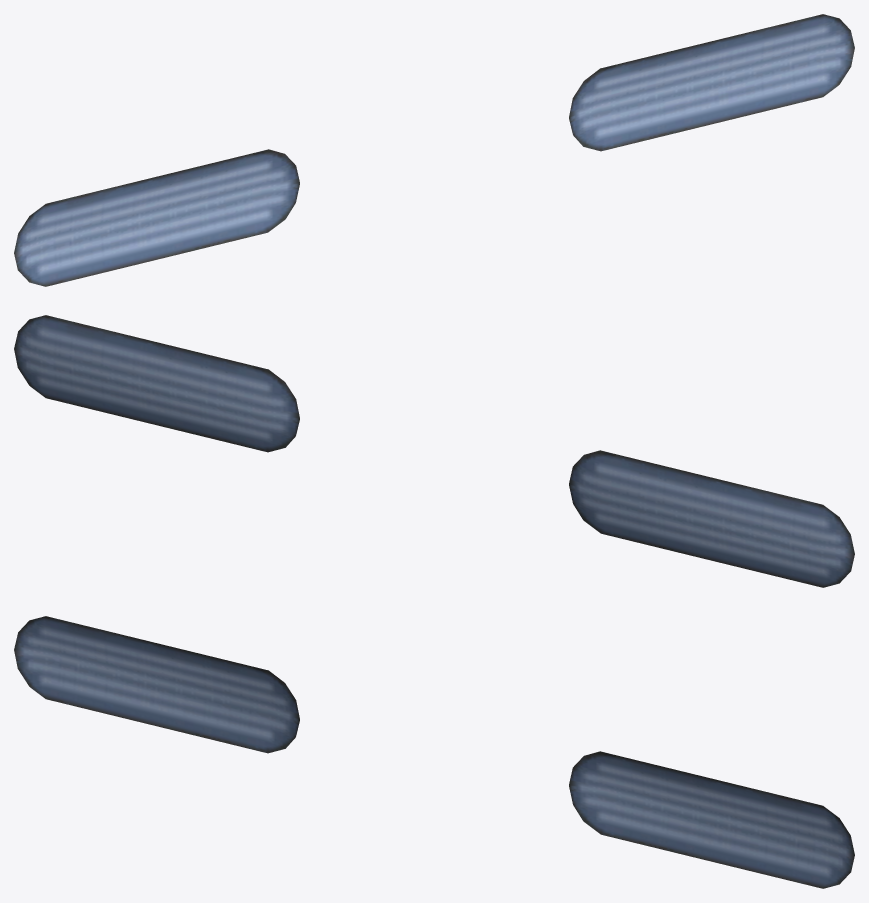
The model's file is imperial_gunboat_engine_on_l0.fbx.
The picture shows the model from 3 angles, top to bottom: view 1: azimuth 30°, elevation 25°; view 2: azimuth 150°, elevation 25°; view 3: azimuth 330°, elevation 25°; orthographic projection.
Visible parts, largest first — view 1: mesh_node; view 2: mesh_node; view 3: mesh_node.
Part boxes in pixels (<box>): mesh_node: <box>14,14,854,286</box>; mesh_node: <box>14,315,854,587</box>; mesh_node: <box>14,616,854,888</box>.
Size of the model in its own units: 40.54 by 3.83 by 0.2657.
Materials: 1 (1 with a texture image).
